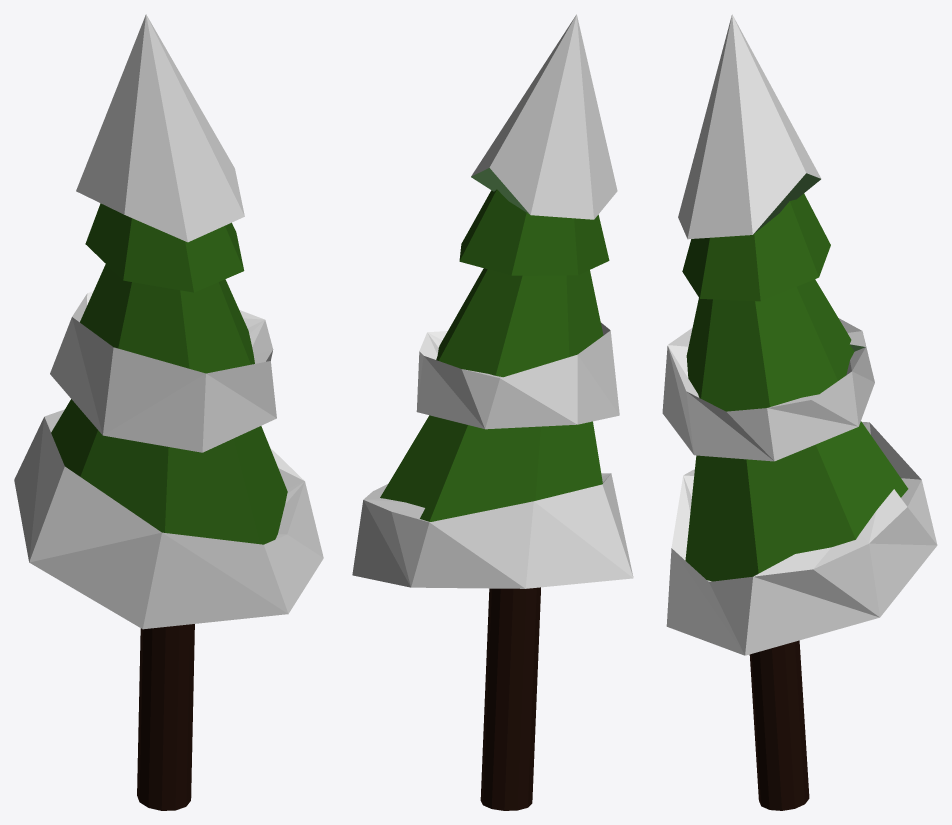
File: pine.glb
3 views of the same model, side by side, from view 1: azimuth 30°, elevation 25°; view 2: azimuth 150°, elevation 25°; view 3: azimuth 270°, elevation 25° (orthographic). The views are drawn at different scales.
Parts seen in each view (by area): view 1: tree; view 2: tree; view 3: tree.
Boxes of the visible parts, left/top/right/bottom form: tree: left=14, top=14, right=323, bottom=810; tree: left=352, top=14, right=633, bottom=810; tree: left=662, top=14, right=937, bottom=810.
Bounding box in the file's own units: 0.8708 × 2.49 × 0.8106.
